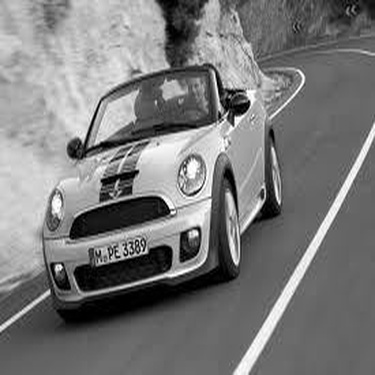car: (21, 55, 288, 328)
